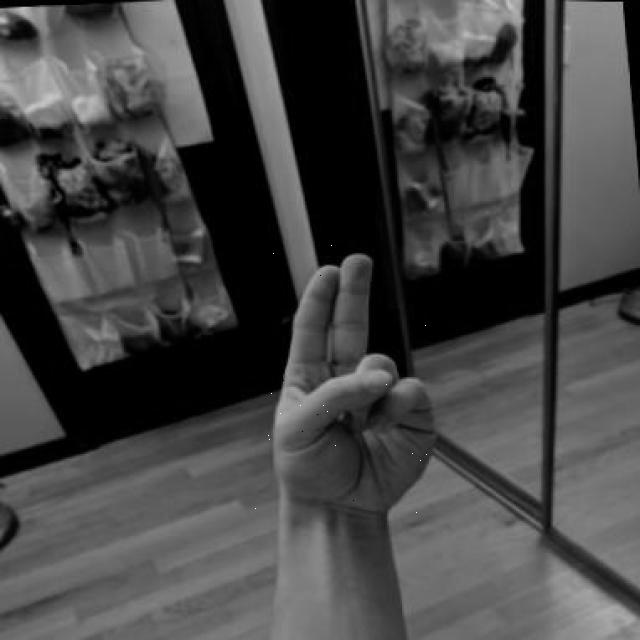U: (247, 240, 450, 527)
